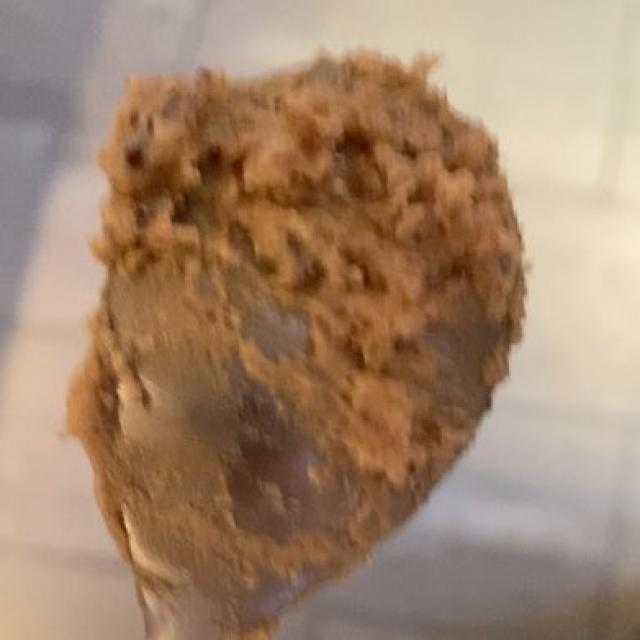cookies: (71, 60, 521, 619)
